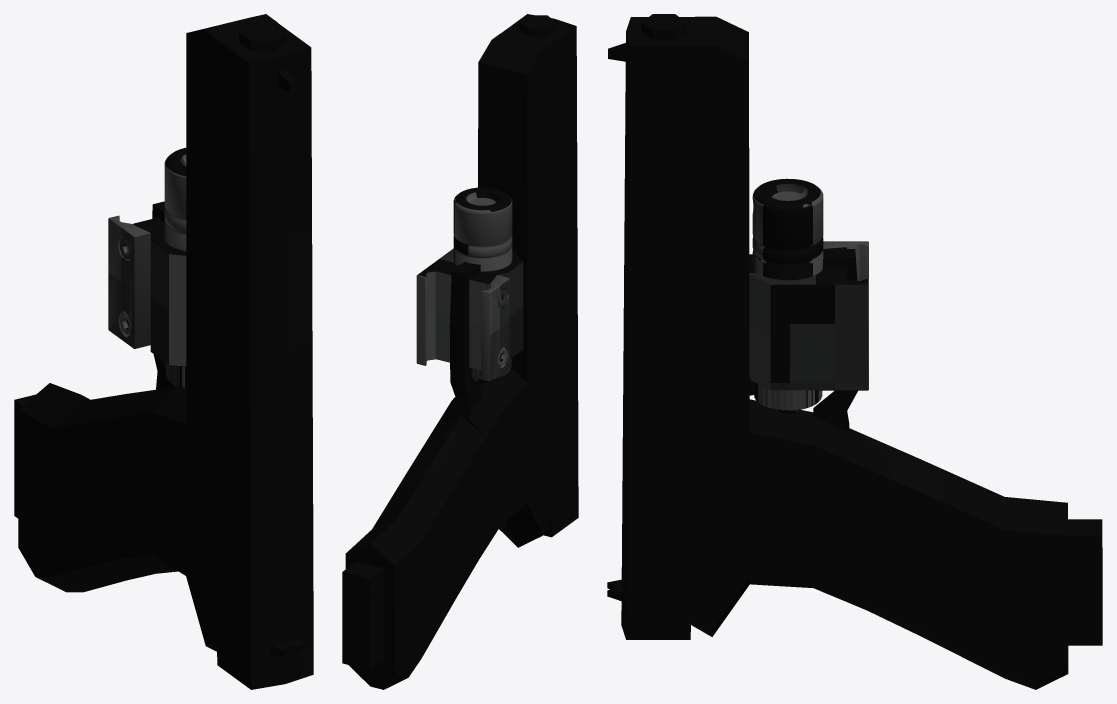
The model's file is Glock17__Light_Pistol.fbx.
3 renders of one model, left to right at view 1: azimuth 30°, elevation 25°; view 2: azimuth 150°, elevation 25°; view 3: azimuth 270°, elevation 25°, orthographic. The views are drawn at different scales.
Visible parts, largest first — view 1: asset_Glock17.001; view 2: asset_Glock17.001; view 3: asset_Glock17.001.
Part boxes in pixels (left/top/right/bottom): asset_Glock17.001: left=14, top=14, right=313, bottom=689; asset_Glock17.001: left=342, top=14, right=578, bottom=689; asset_Glock17.001: left=607, top=14, right=1102, bottom=689.
Size of the model in its own units: 0.016 by 0.1152 by 0.0774.
